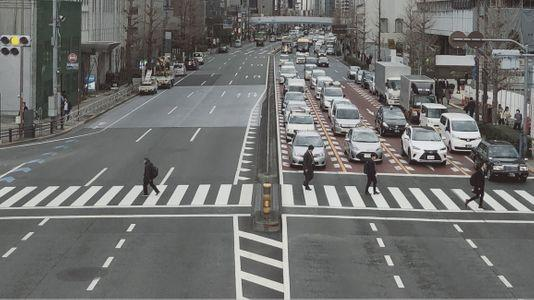crosswalk: (0, 181, 534, 222)
